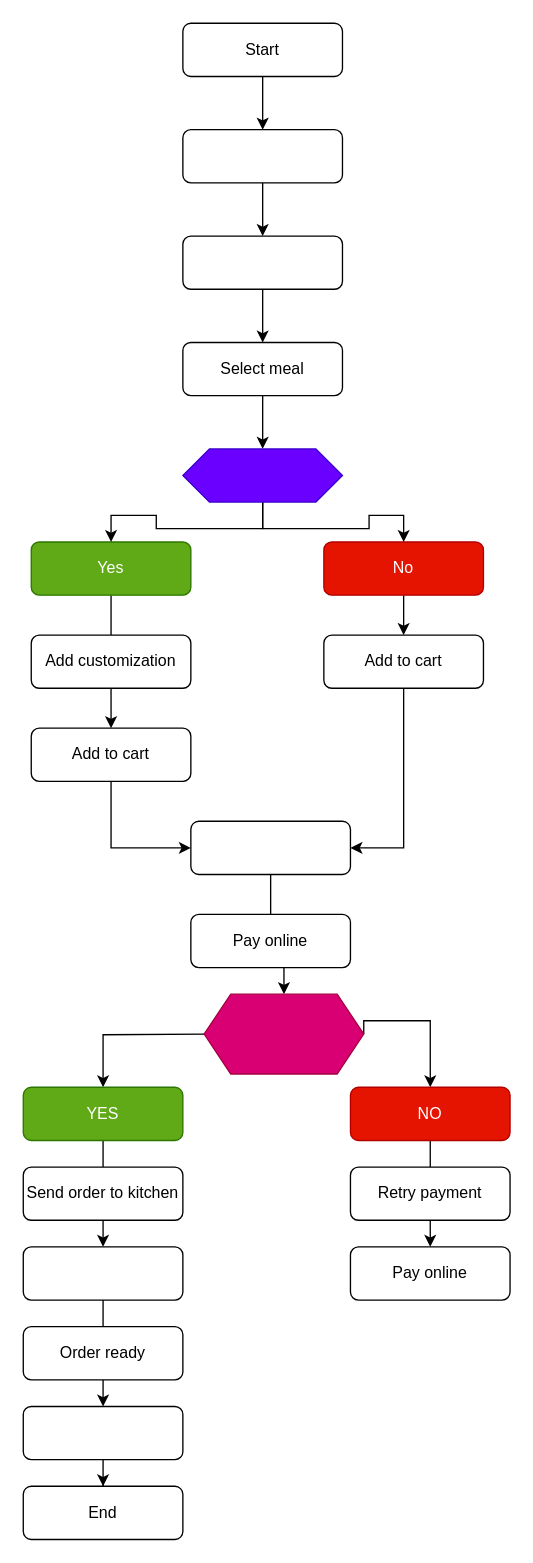
Image size: 533x1563. Some labels were removed from this diagram. The centre of each missing label's shape, as x and y in pixels:
"Browse menu" goes at [262,262].
"Collect order" goes at [102,1432].
"Customize meal?" goes at [262,475].
"Open cafeteria app" goes at [262,155].
"Payment successful?" goes at [283,1033].
"Place order" goes at [270,847].
"Prepare meal" goes at [102,1273].
